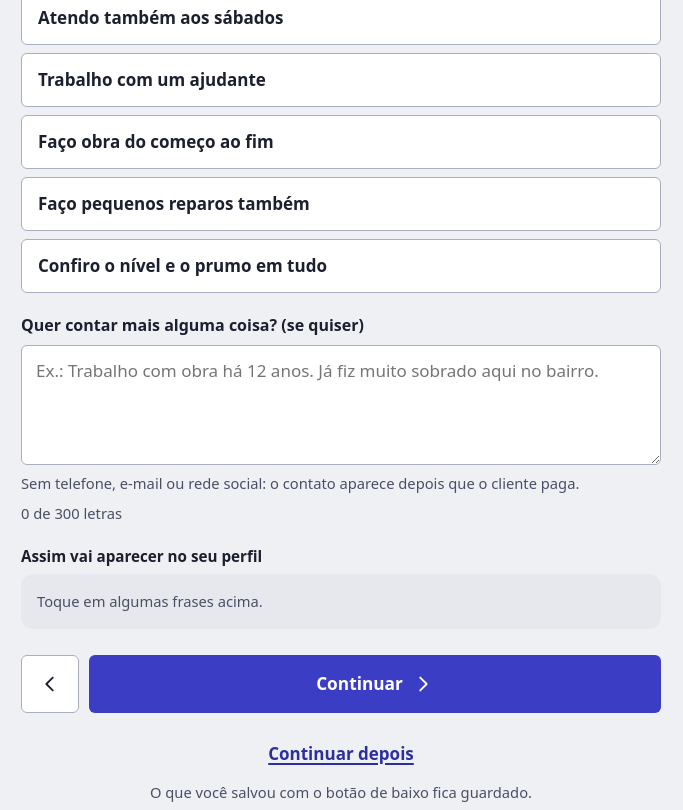
etapa 10: sobre você › texto com contato (422): erro no campo de texto
(page scrolled)
Type "me liga 47 99999-0000" into the text box labelled "Quer contar mais alguma coisa? (se quiser)" at (341, 405), box top-left (21, 345), bottom-right (661, 465)
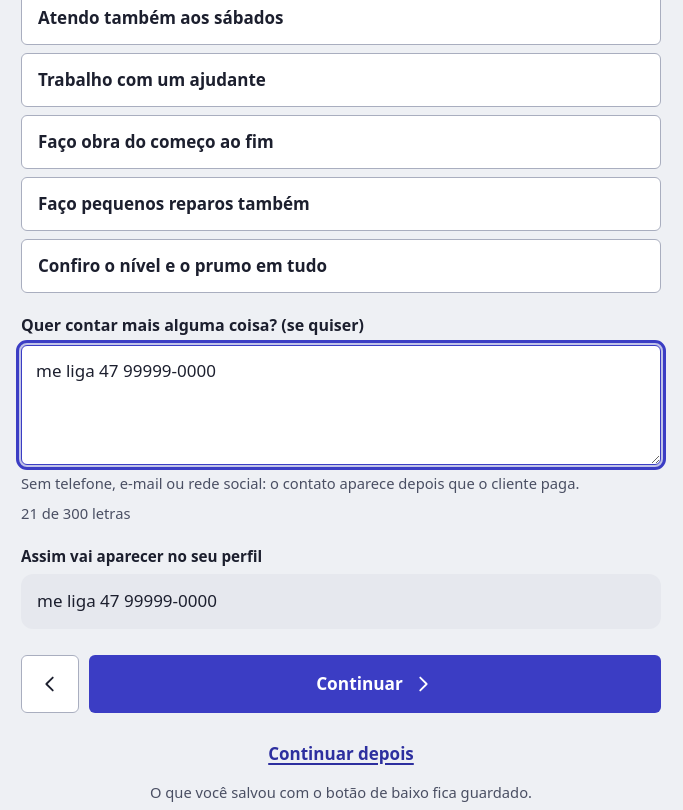
Click the button "Continuar" at (375, 684), box top-left (89, 655), bottom-right (661, 713)
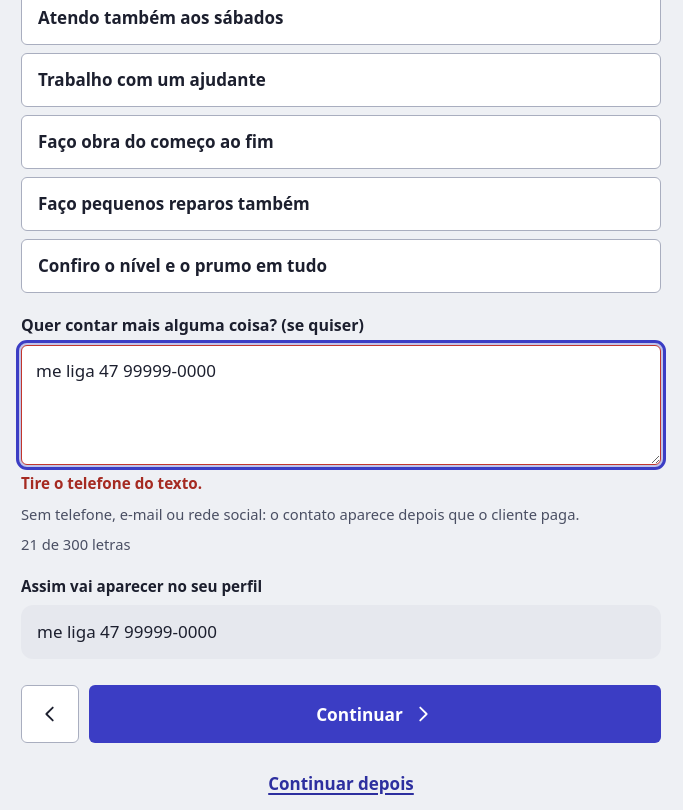
Expected: the text "Tire o telefone do texto." is shown, top-left (21, 473), bottom-right (202, 493)
